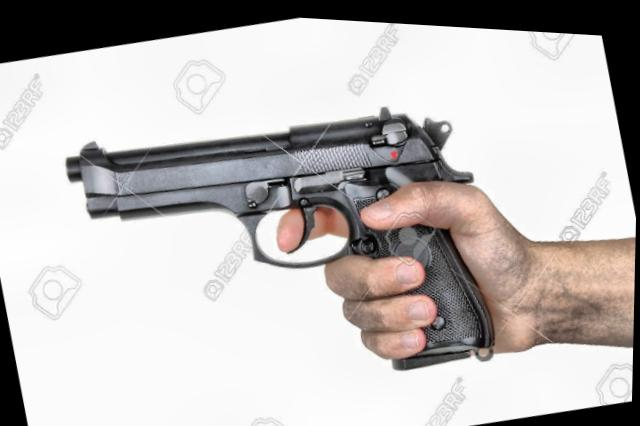pistol: (54, 59, 515, 426)
